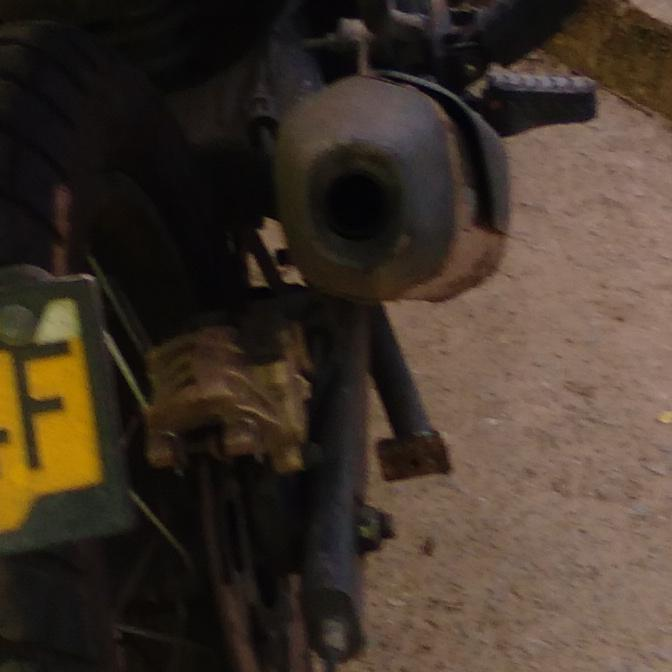plates: (0, 271, 130, 557)
